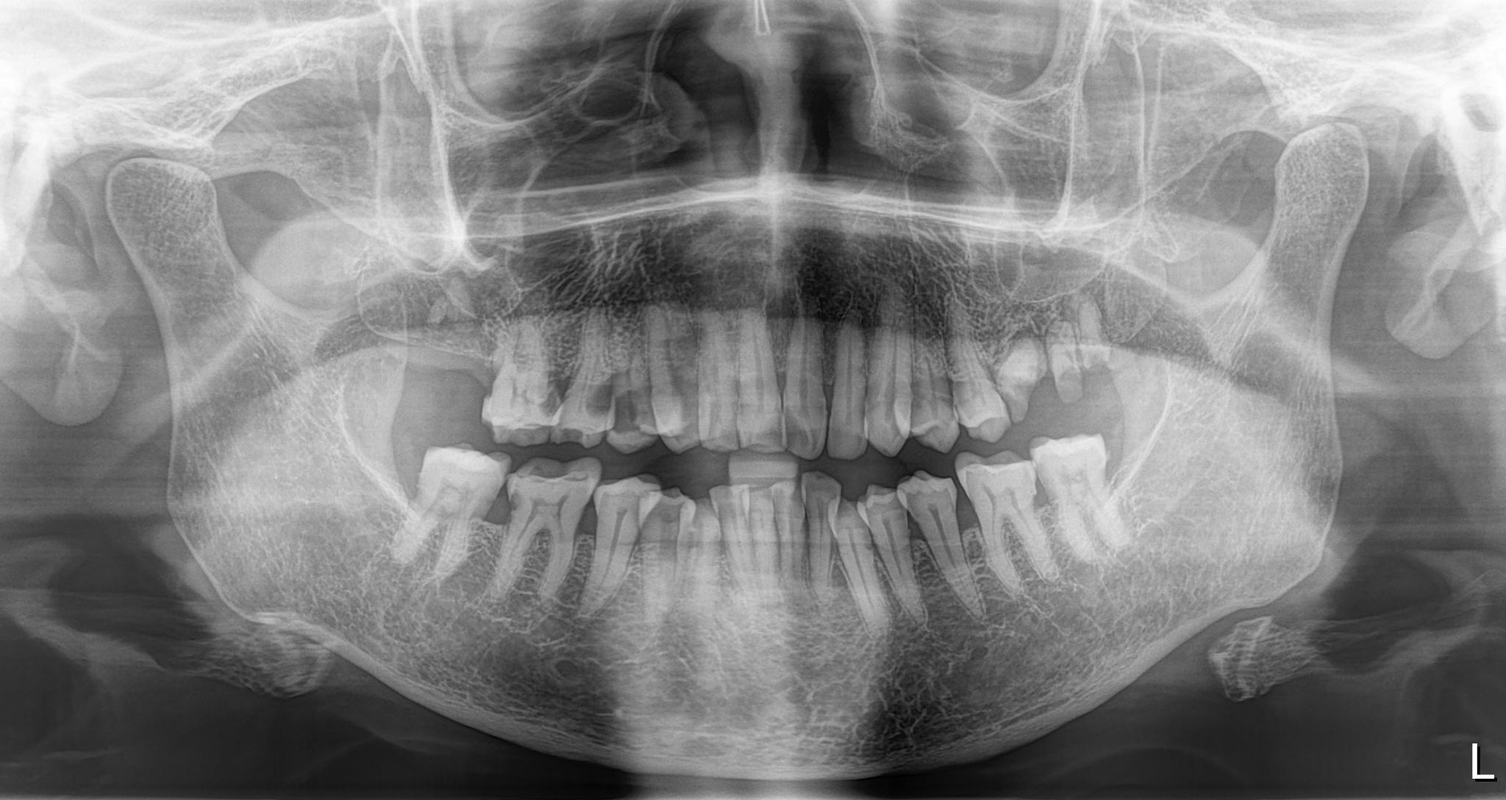Dental Caries: (483, 481, 529, 532), (590, 375, 623, 422), (621, 384, 646, 432), (535, 386, 565, 417)
Missing Tooth: (438, 332, 492, 437), (382, 332, 423, 429)
Periapical Lesion: (653, 316, 707, 437)
Retained Root: (952, 331, 1008, 441), (1081, 318, 1114, 422), (1007, 329, 1038, 438), (1048, 318, 1076, 434)
